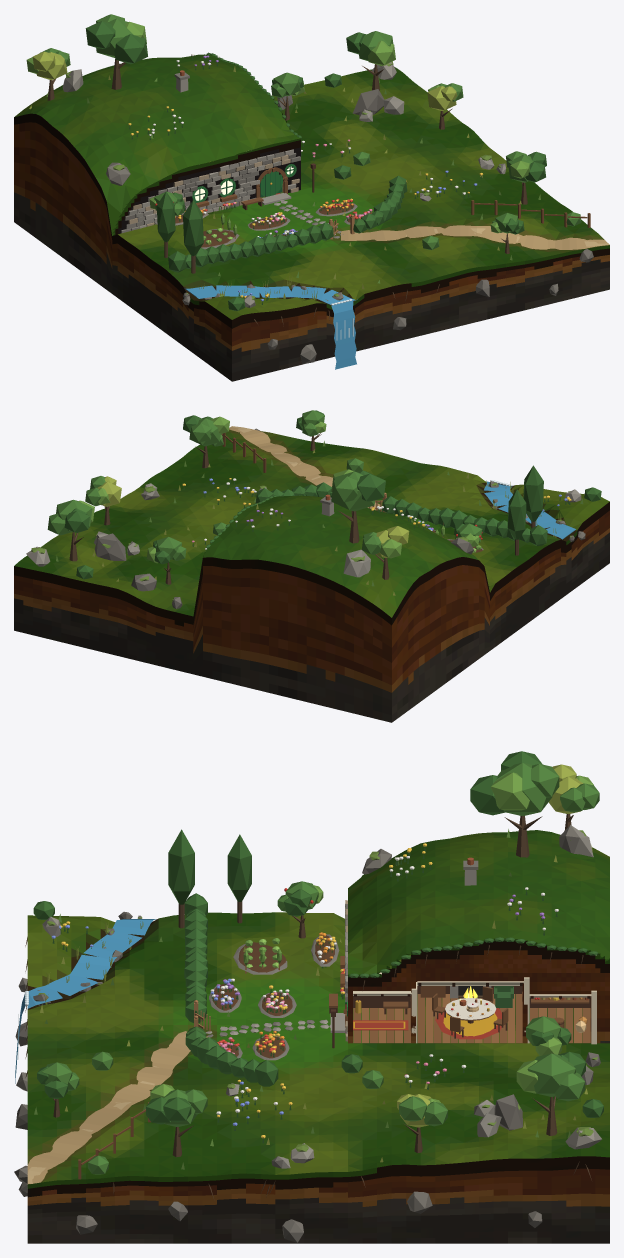
File: bag-end.glb
3 views of the same model, one above another, from view 1: azimuth 30°, elevation 25°; view 2: azimuth 150°, elevation 25°; view 3: azimuth 270°, elevation 25° (orthographic). The views are drawn at different scales.
Visible parts, largest first — view 1: terrain, plinth, bag-end, hill, door; view 2: plinth, terrain, bag-end, hill; view 3: terrain, bag-end, plinth, hill.
Boxes of the visible parts, x1,y1,x2,y2 form: terrain: [112, 67, 609, 319]; plinth: [14, 113, 609, 381]; bag-end: [26, 14, 609, 369]; hill: [14, 54, 300, 235]; door: [260, 171, 282, 197]; plinth: [14, 502, 609, 722]; terrain: [14, 429, 609, 616]; bag-end: [26, 410, 601, 608]; hill: [203, 495, 489, 617]; terrain: [27, 912, 609, 1184]; bag-end: [14, 751, 603, 1242]; plinth: [27, 1156, 609, 1243]; hill: [348, 830, 609, 1043].
Size of the model in its own units: 14.74 by 7.79 by 14.33.
